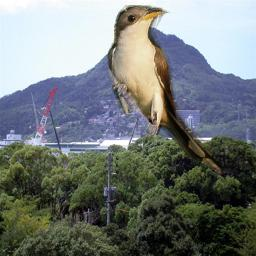Cuckoo: (107, 5, 227, 178)
